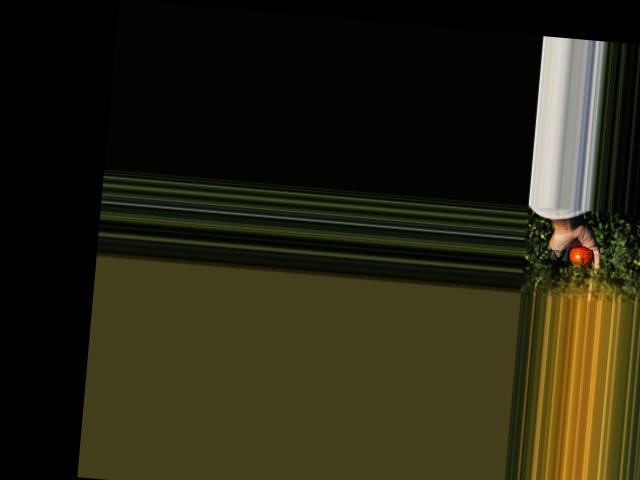tomato: (569, 245, 594, 268)
